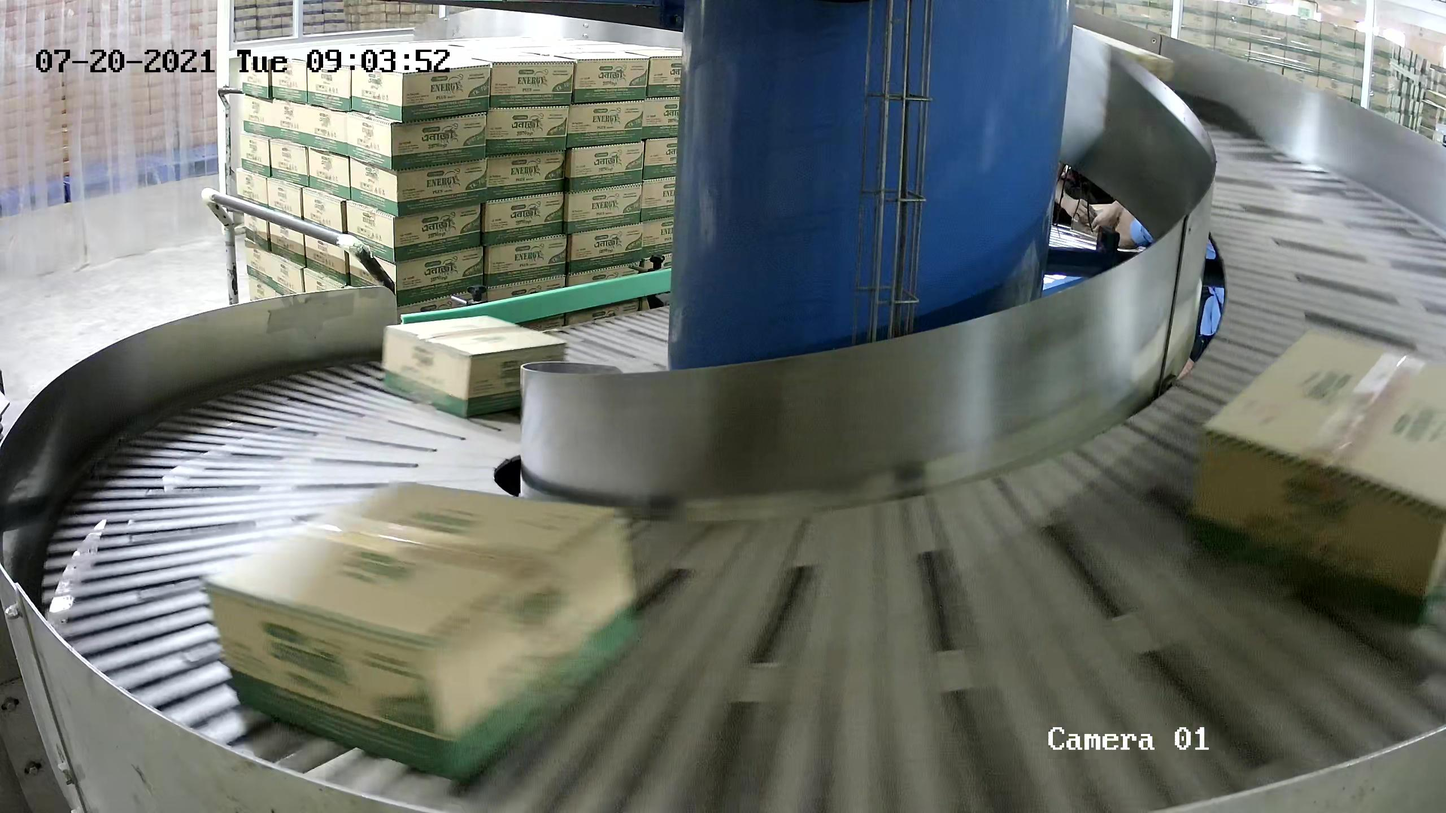Box: (199, 479, 645, 783), (1187, 324, 1446, 623), (381, 314, 567, 419)
